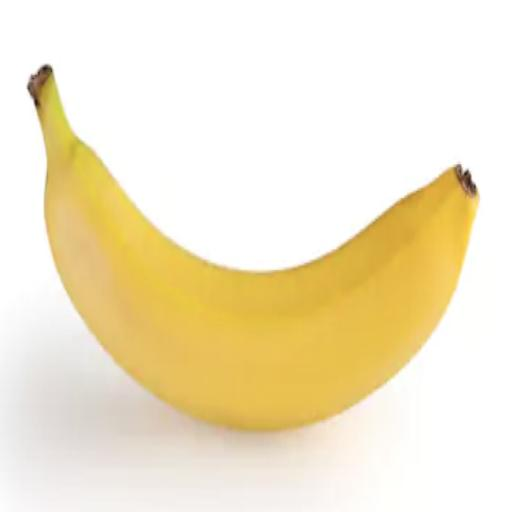banana: (29, 67, 479, 429)
